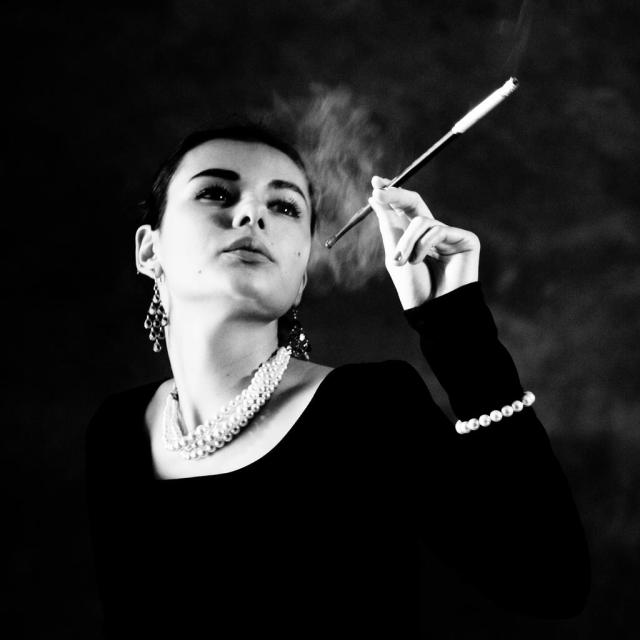smoking: (119, 52, 556, 438)
